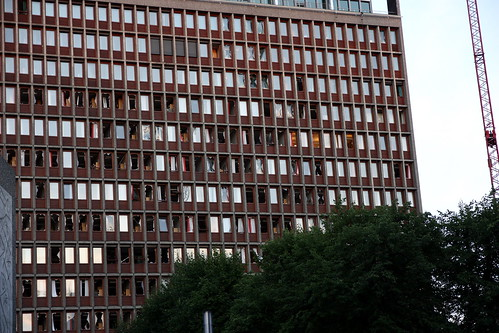building: (1, 1, 417, 333)
vegetation: (169, 203, 499, 333)
